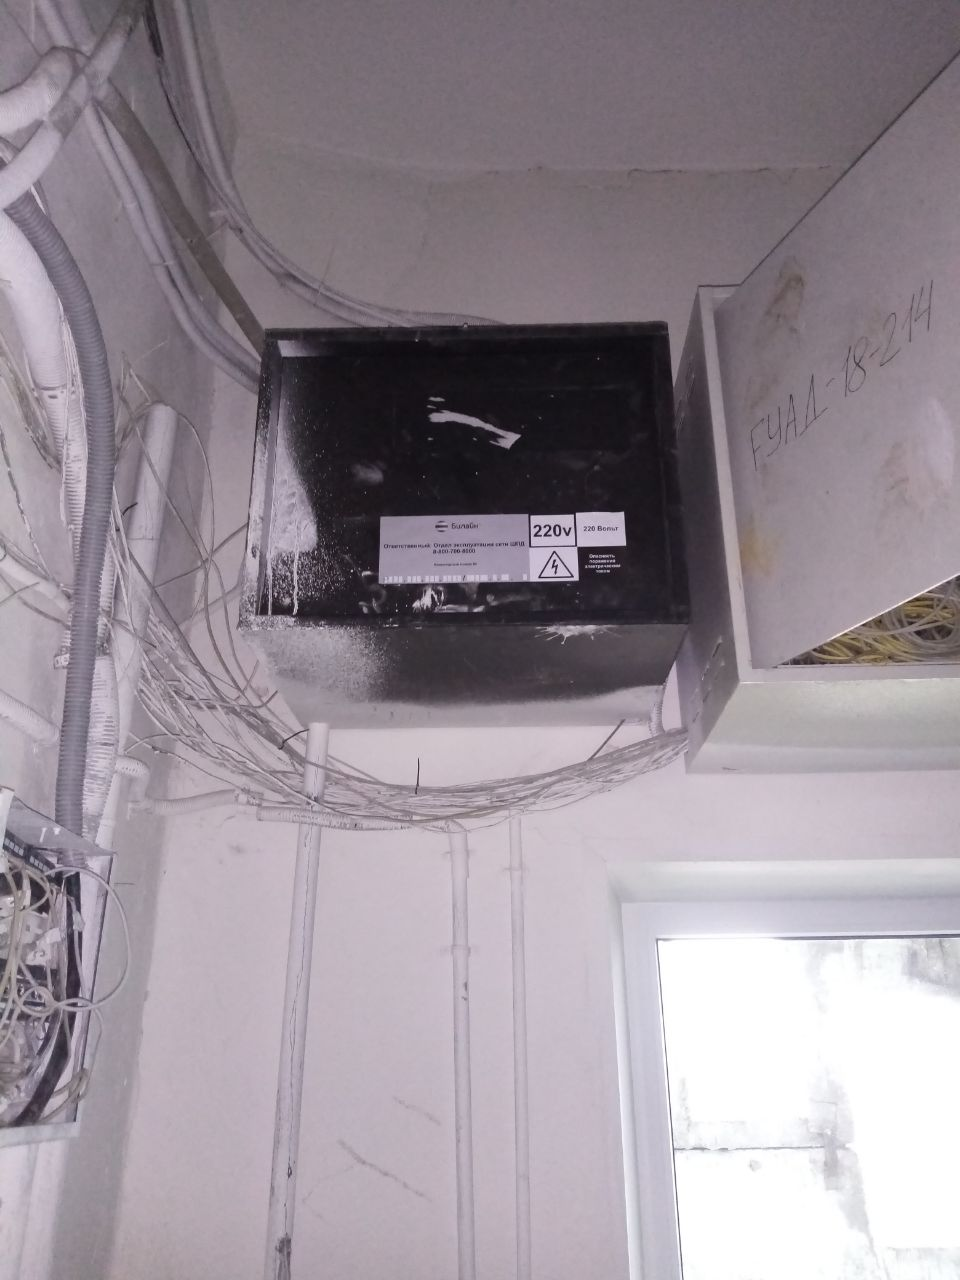shta-9m: (222, 307, 694, 734)
